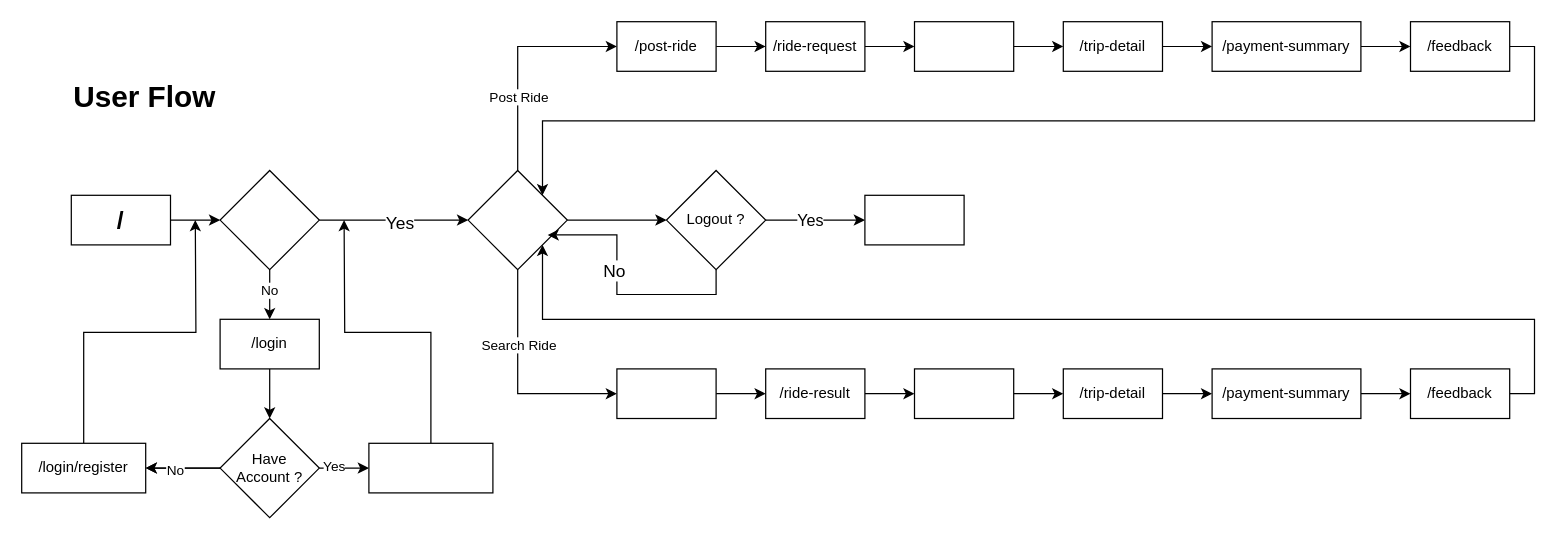
Some shapes in this 1566 by 539 pixel diagram are drawn without their labels. Here are the shapes that lost their labels. From the top down, the centre of each, then its label:
At point 963,45: "/request-detail".
At point 269,219: "Login ?".
At point 517,219: "Ride (Home)".
At point 914,219: "/logout".
At point 666,393: "/search- ride".
At point 963,393: "/ ride-detail".
At point 430,467: "/login/user".
